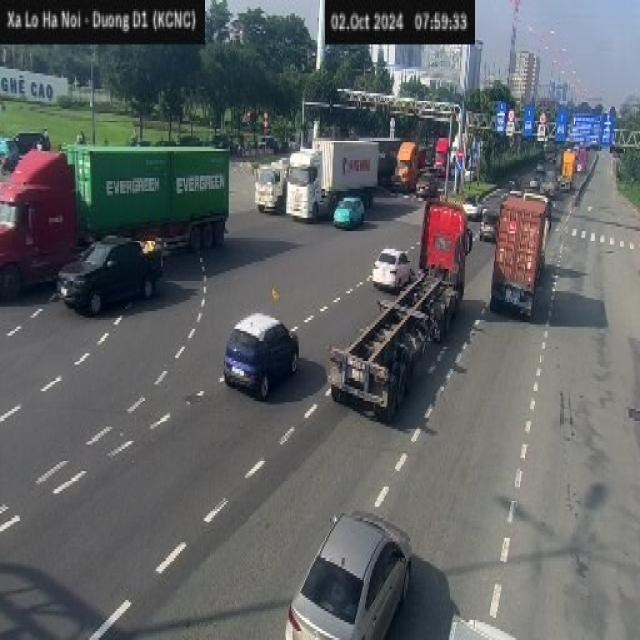car: (286, 512, 418, 640), (218, 288, 306, 413), (57, 240, 170, 321), (374, 234, 416, 290), (331, 191, 370, 239), (15, 120, 54, 162), (2, 126, 30, 164), (476, 208, 500, 250), (418, 165, 442, 198), (462, 182, 483, 216), (526, 170, 542, 194), (506, 163, 519, 190)
container-truck: (329, 190, 474, 428), (0, 147, 241, 272), (498, 175, 552, 334), (288, 130, 385, 217), (357, 122, 403, 192), (394, 135, 438, 190), (557, 147, 578, 200), (450, 124, 469, 172), (574, 137, 591, 181), (434, 137, 446, 182)
truck: (444, 575, 539, 640), (246, 147, 290, 214)
